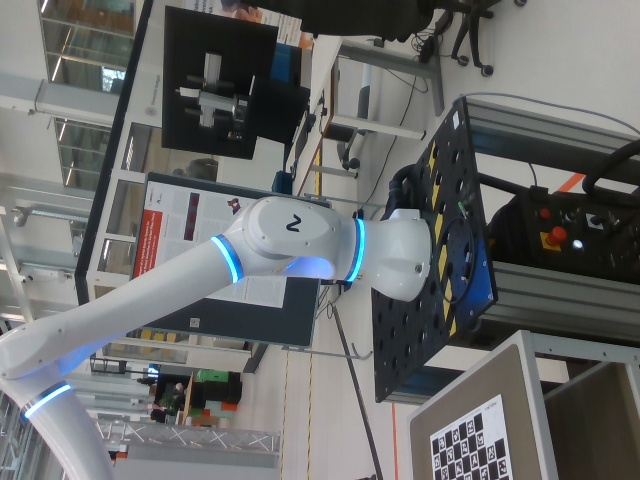Robot arm: (2, 197, 432, 479)
